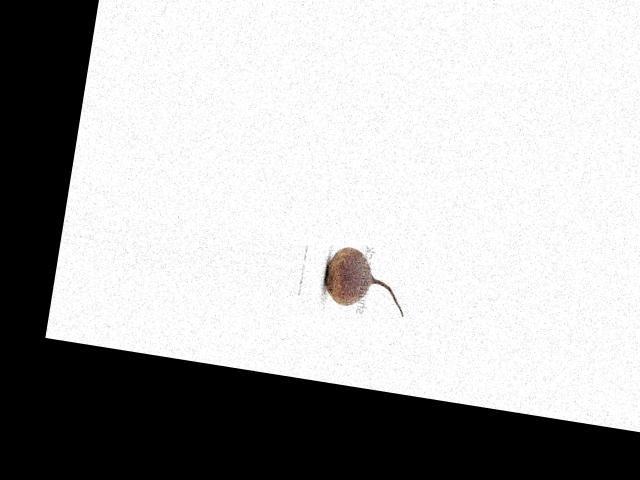beet: (320, 243, 412, 316)
